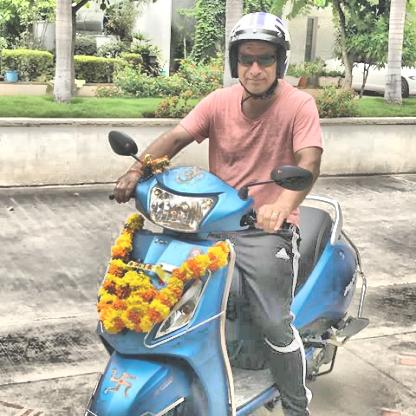wear: (229, 12, 290, 97)
